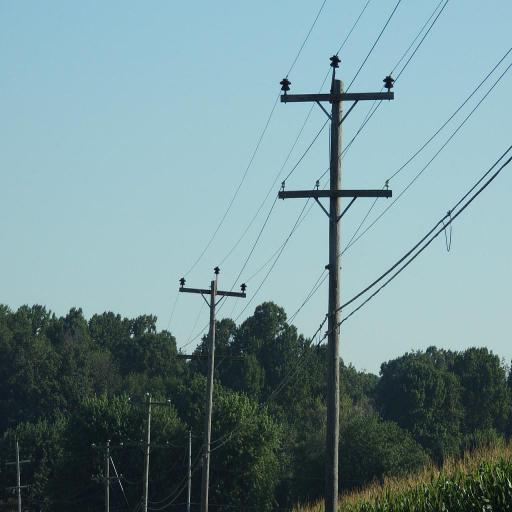mono_8: (278, 54, 393, 511), (173, 263, 252, 511), (126, 387, 171, 511), (89, 434, 123, 511), (5, 440, 33, 512)
